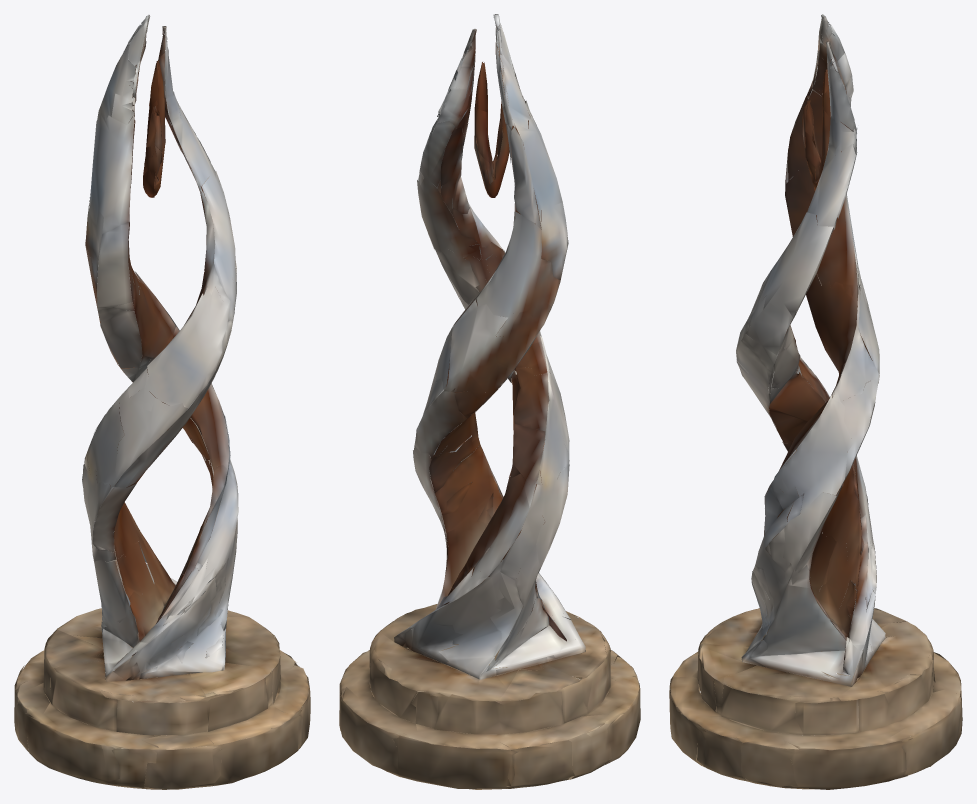
The model's file is sculpture.glb.
3 renders of one model, left to right at view 1: azimuth 30°, elevation 25°; view 2: azimuth 150°, elevation 25°; view 3: azimuth 270°, elevation 25°, orthographic.
Visible parts, largest first — view 1: LO.001; view 2: LO.001; view 3: LO.001.
Part boxes in pixels (x1,y1,x2,y2): LO.001: [14, 15, 310, 789]; LO.001: [339, 14, 640, 789]; LO.001: [669, 14, 962, 789].
Size of the model in its own units: 0.3693 by 0.9831 by 0.3668.
Materials: 1 (1 with a texture image).
